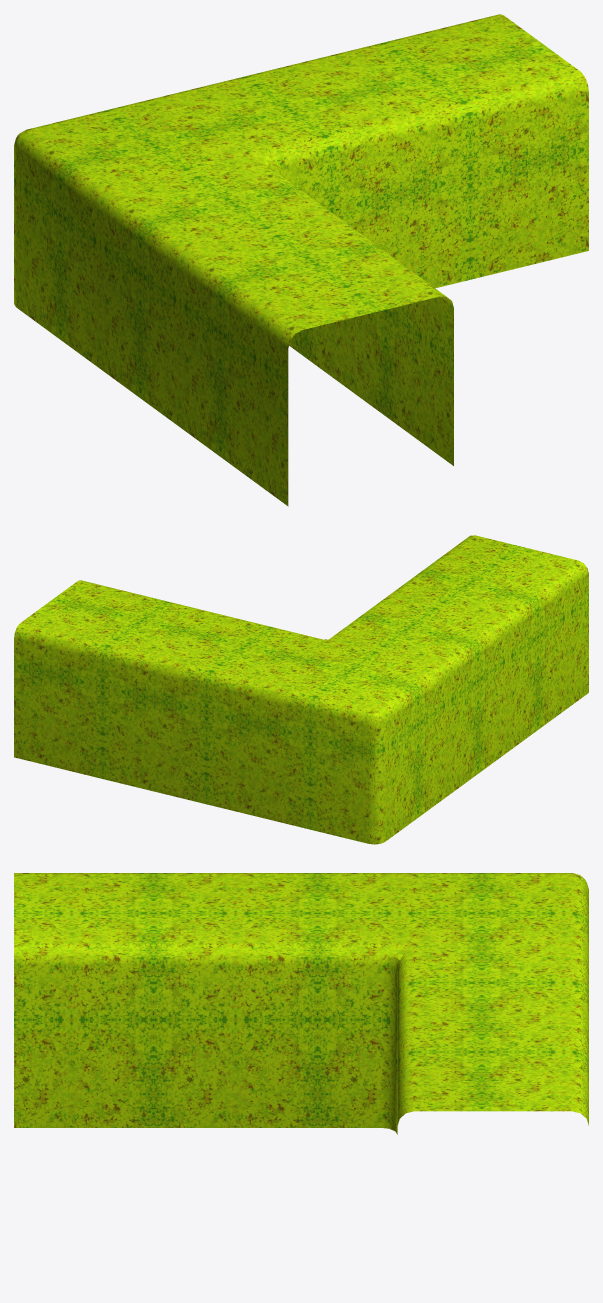
Rendered from Ornamento_PingoDOuro_Quina.fbx.
3 renders of one model, top to bottom at view 1: azimuth 30°, elevation 25°; view 2: azimuth 150°, elevation 25°; view 3: azimuth 270°, elevation 25°, orthographic. The views are drawn at different scales.
Visible parts, largest first — view 1: Cube.001; view 2: Cube.001; view 3: Cube.001.
Part boxes in pixels (left/top/right/bottom): Cube.001: left=14, top=14, right=588, bottom=506; Cube.001: left=14, top=535, right=588, bottom=844; Cube.001: left=14, top=873, right=588, bottom=1134.
Size of the model in its own units: 5.89 by 2 by 5.87.
